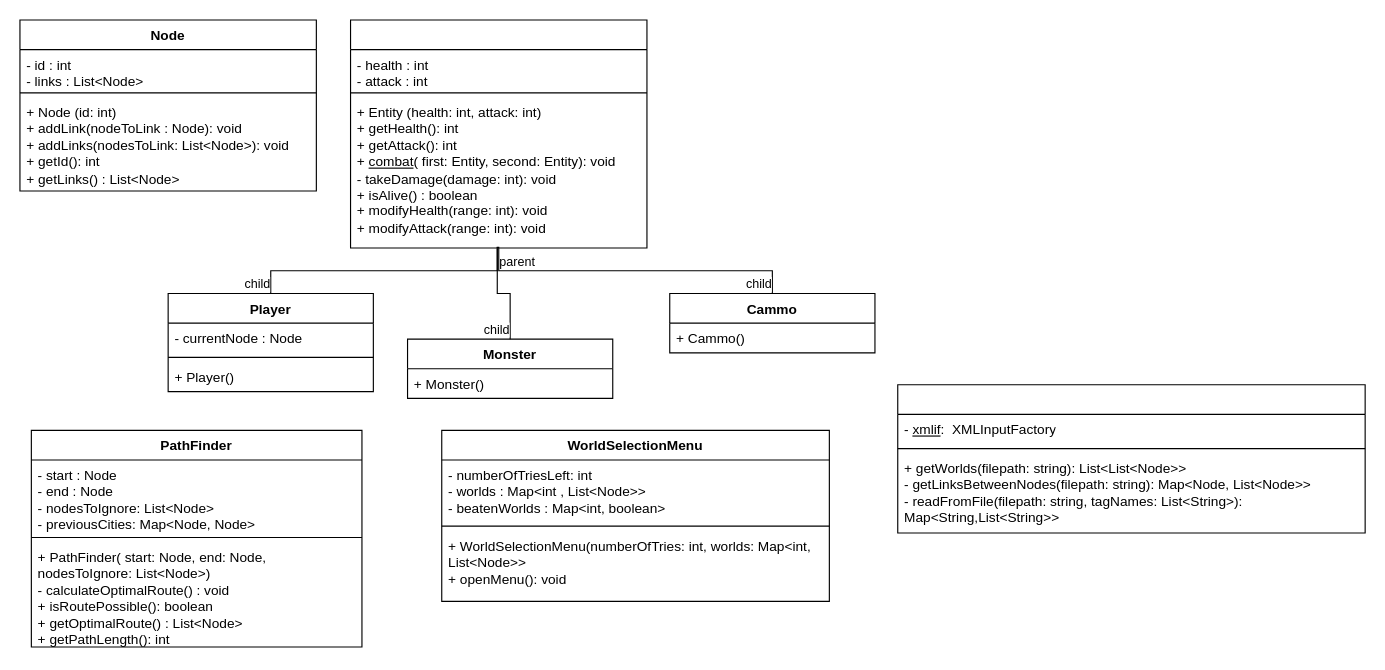
Some shapes in this 1385 by 670 pixel diagram are drawn without their labels. The shapes that lost their labels are listed below. From the top down, each one's box as (x1, y1, x2, y2) in pixels, then its label:
(349, 19, 647, 248): <Abstract> Entity
(897, 384, 1365, 533): XMLHandler
